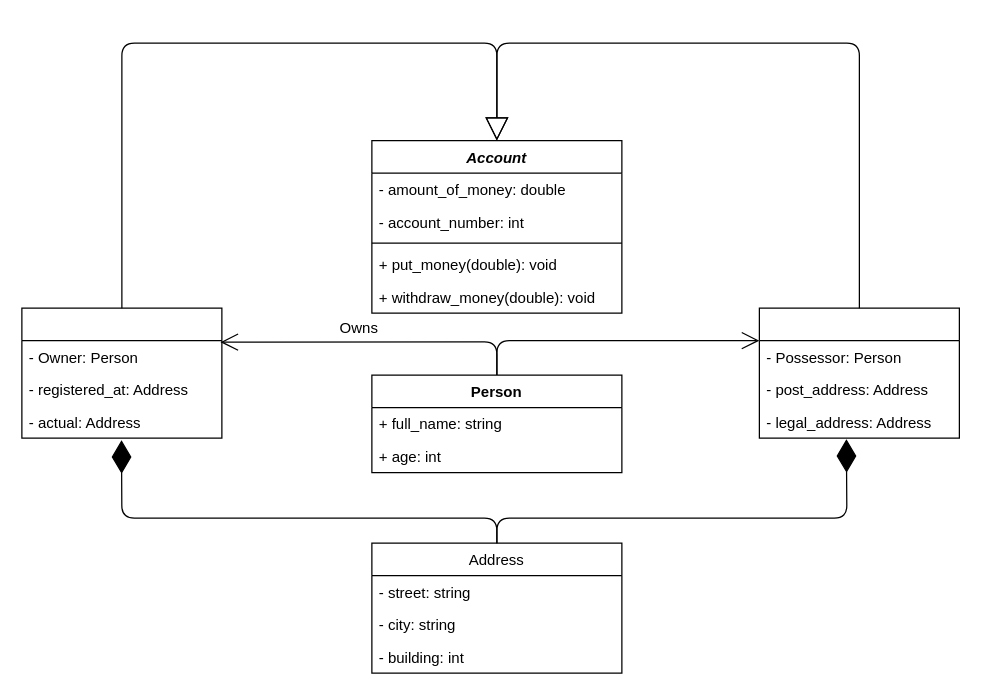
The diagram is 981 pixels wide and 699 high, and some of its shapes have lost their labels. Here are the shapes that lost their labels. From the top down, the box of each, then its label:
(21, 307, 222, 438): PersonalAccount
(758, 307, 959, 438): CompanyAccount
